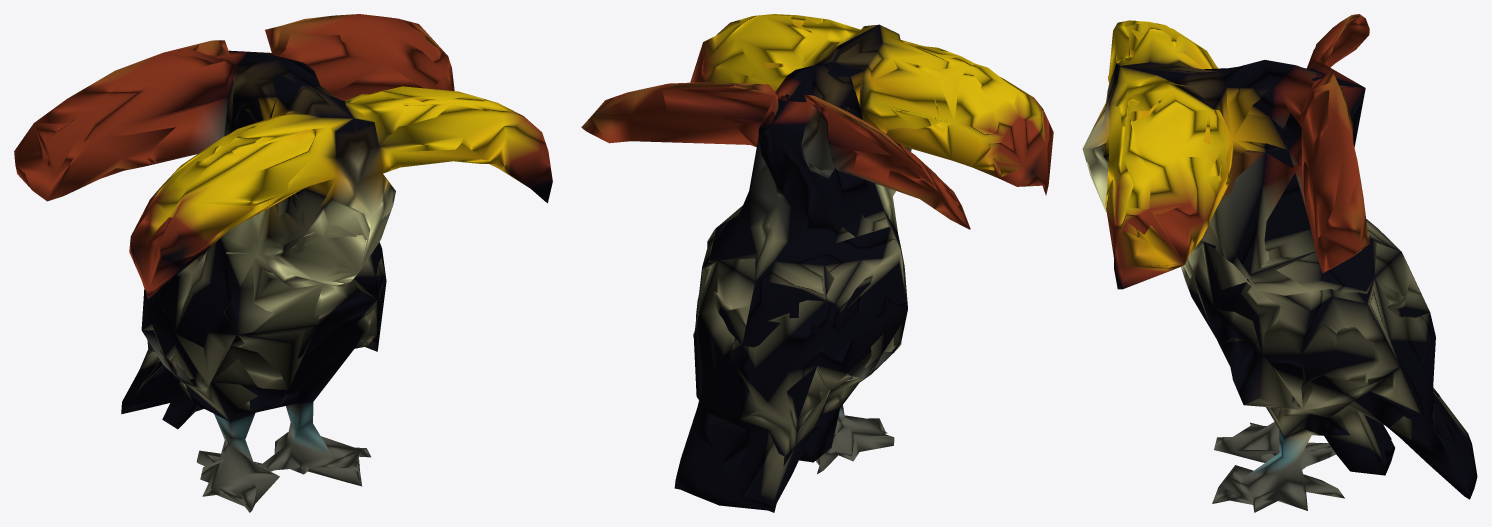
Rendered from gen3d-toucan-lod0.glb.
3 renders of one model, left to right at view 1: azimuth 30°, elevation 25°; view 2: azimuth 150°, elevation 25°; view 3: azimuth 270°, elevation 25°, orthographic. The views are drawn at different scales.
Visible parts, largest first — view 1: part_0; view 2: part_0; view 3: part_0.
Part boxes in pixels (box(x1,y1,x2,y2)): part_0: box(14, 14, 552, 512); part_0: box(581, 14, 1053, 512); part_0: box(1082, 14, 1477, 512).
Bounding box in the file's own units: 1.07 × 0.9972 × 0.8507.
